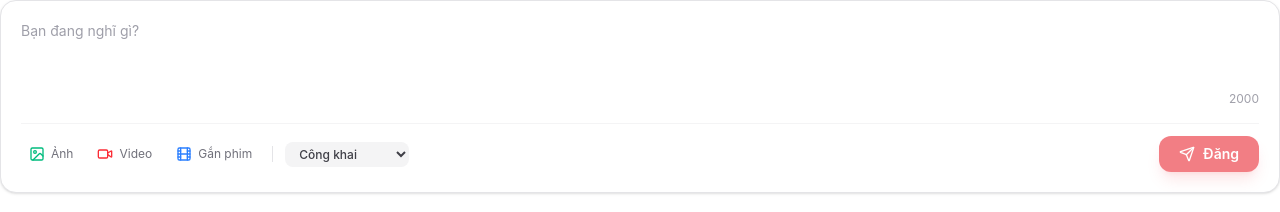
Scenario: SOC-2a: Post Composer › shows live counter decreasing up to 2000 chars and disables submit when empty
expect the button "Đăng" is disabled: met, box [1159,136,1259,172]
expect the text "2000" is shown: met, box [1229,91,1259,107]
Type "Xin chào Winkey!" into the text box with placeholder "Bạn đang nghĩ gì?" at (640, 51), box [21,21,1259,81]
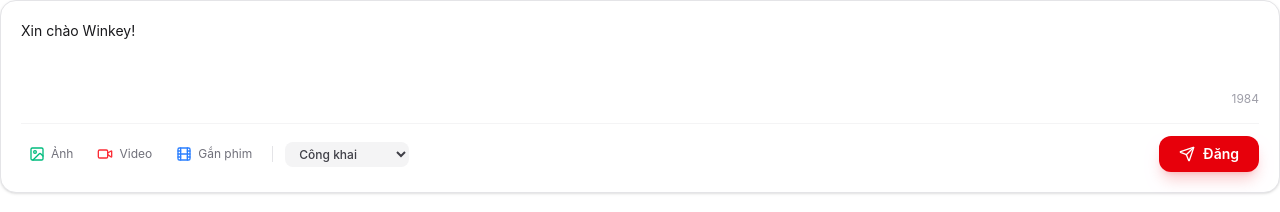
expect the button "Đăng" is enabled: met, box [1159,136,1259,172]
